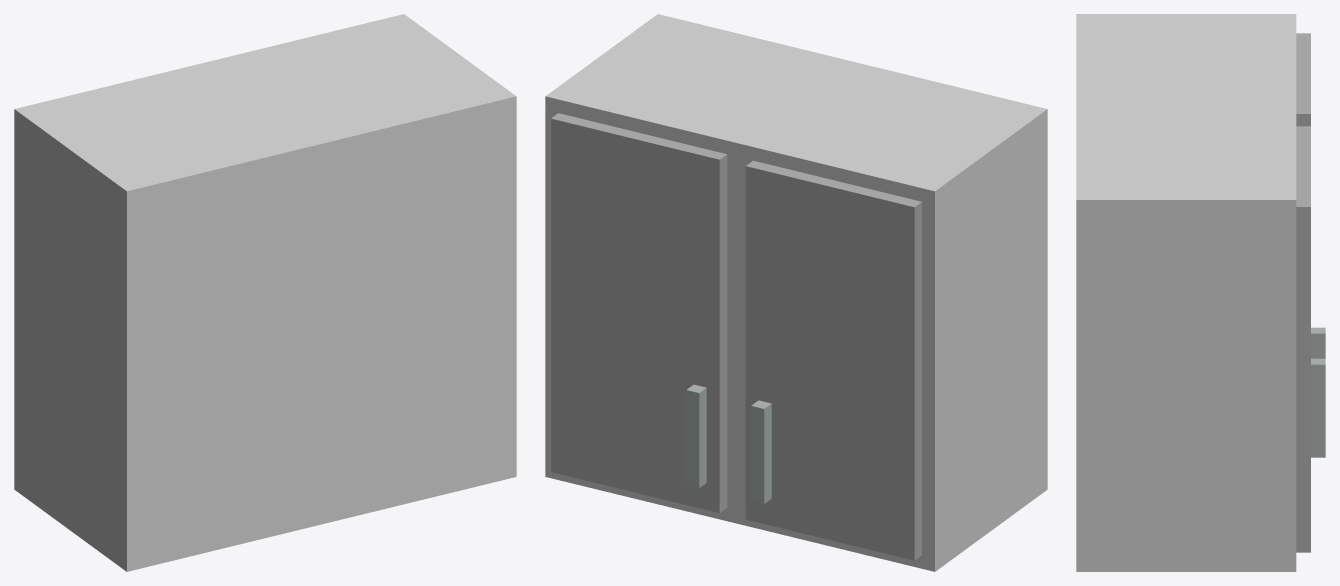
File: countertop_04.glb
The picture shows the model from 3 angles, left to right: view 1: azimuth 30°, elevation 25°; view 2: azimuth 150°, elevation 25°; view 3: azimuth 270°, elevation 25°; orthographic projection. The views are drawn at different scales.
Visible parts, largest first — view 1: Untitled; view 2: Untitled; view 3: Untitled.
Part boxes in pixels (x1,y1,x2,y2): Untitled: [14, 14, 516, 571]; Untitled: [545, 14, 1047, 571]; Untitled: [1076, 14, 1325, 571].
Bounding box in the file's own units: 0.9 × 0.84 × 0.51.
1 material, 1 textured.
